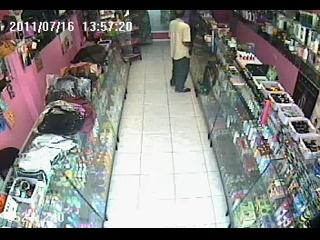Normal: (168, 11, 192, 94)
